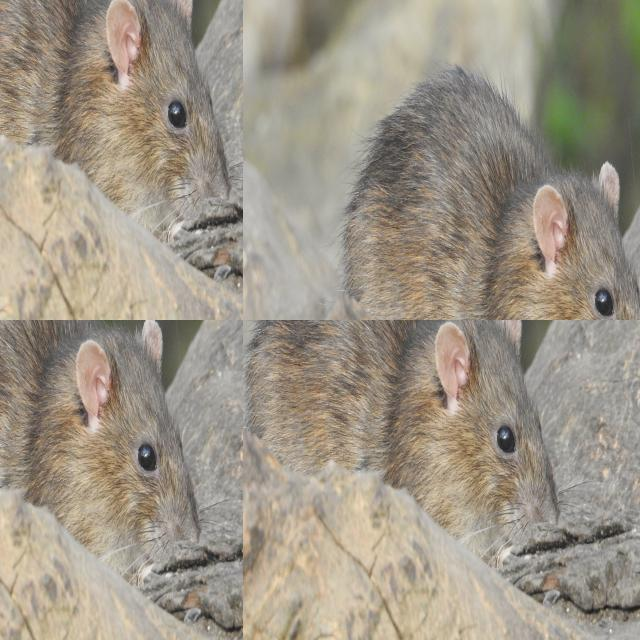rat: (247, 320, 561, 534)
